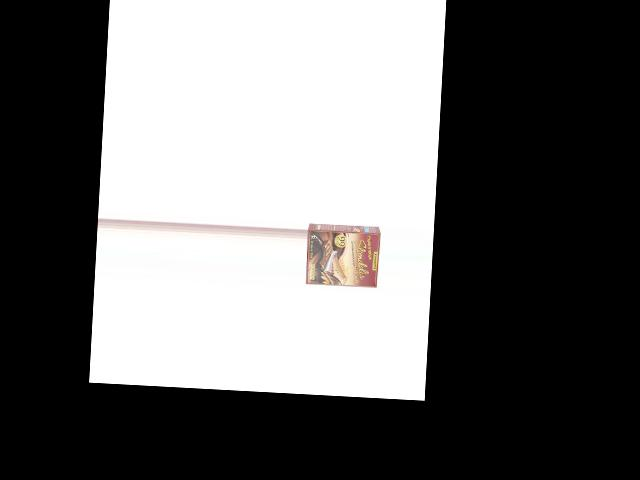chocolate: (304, 219, 382, 294)
